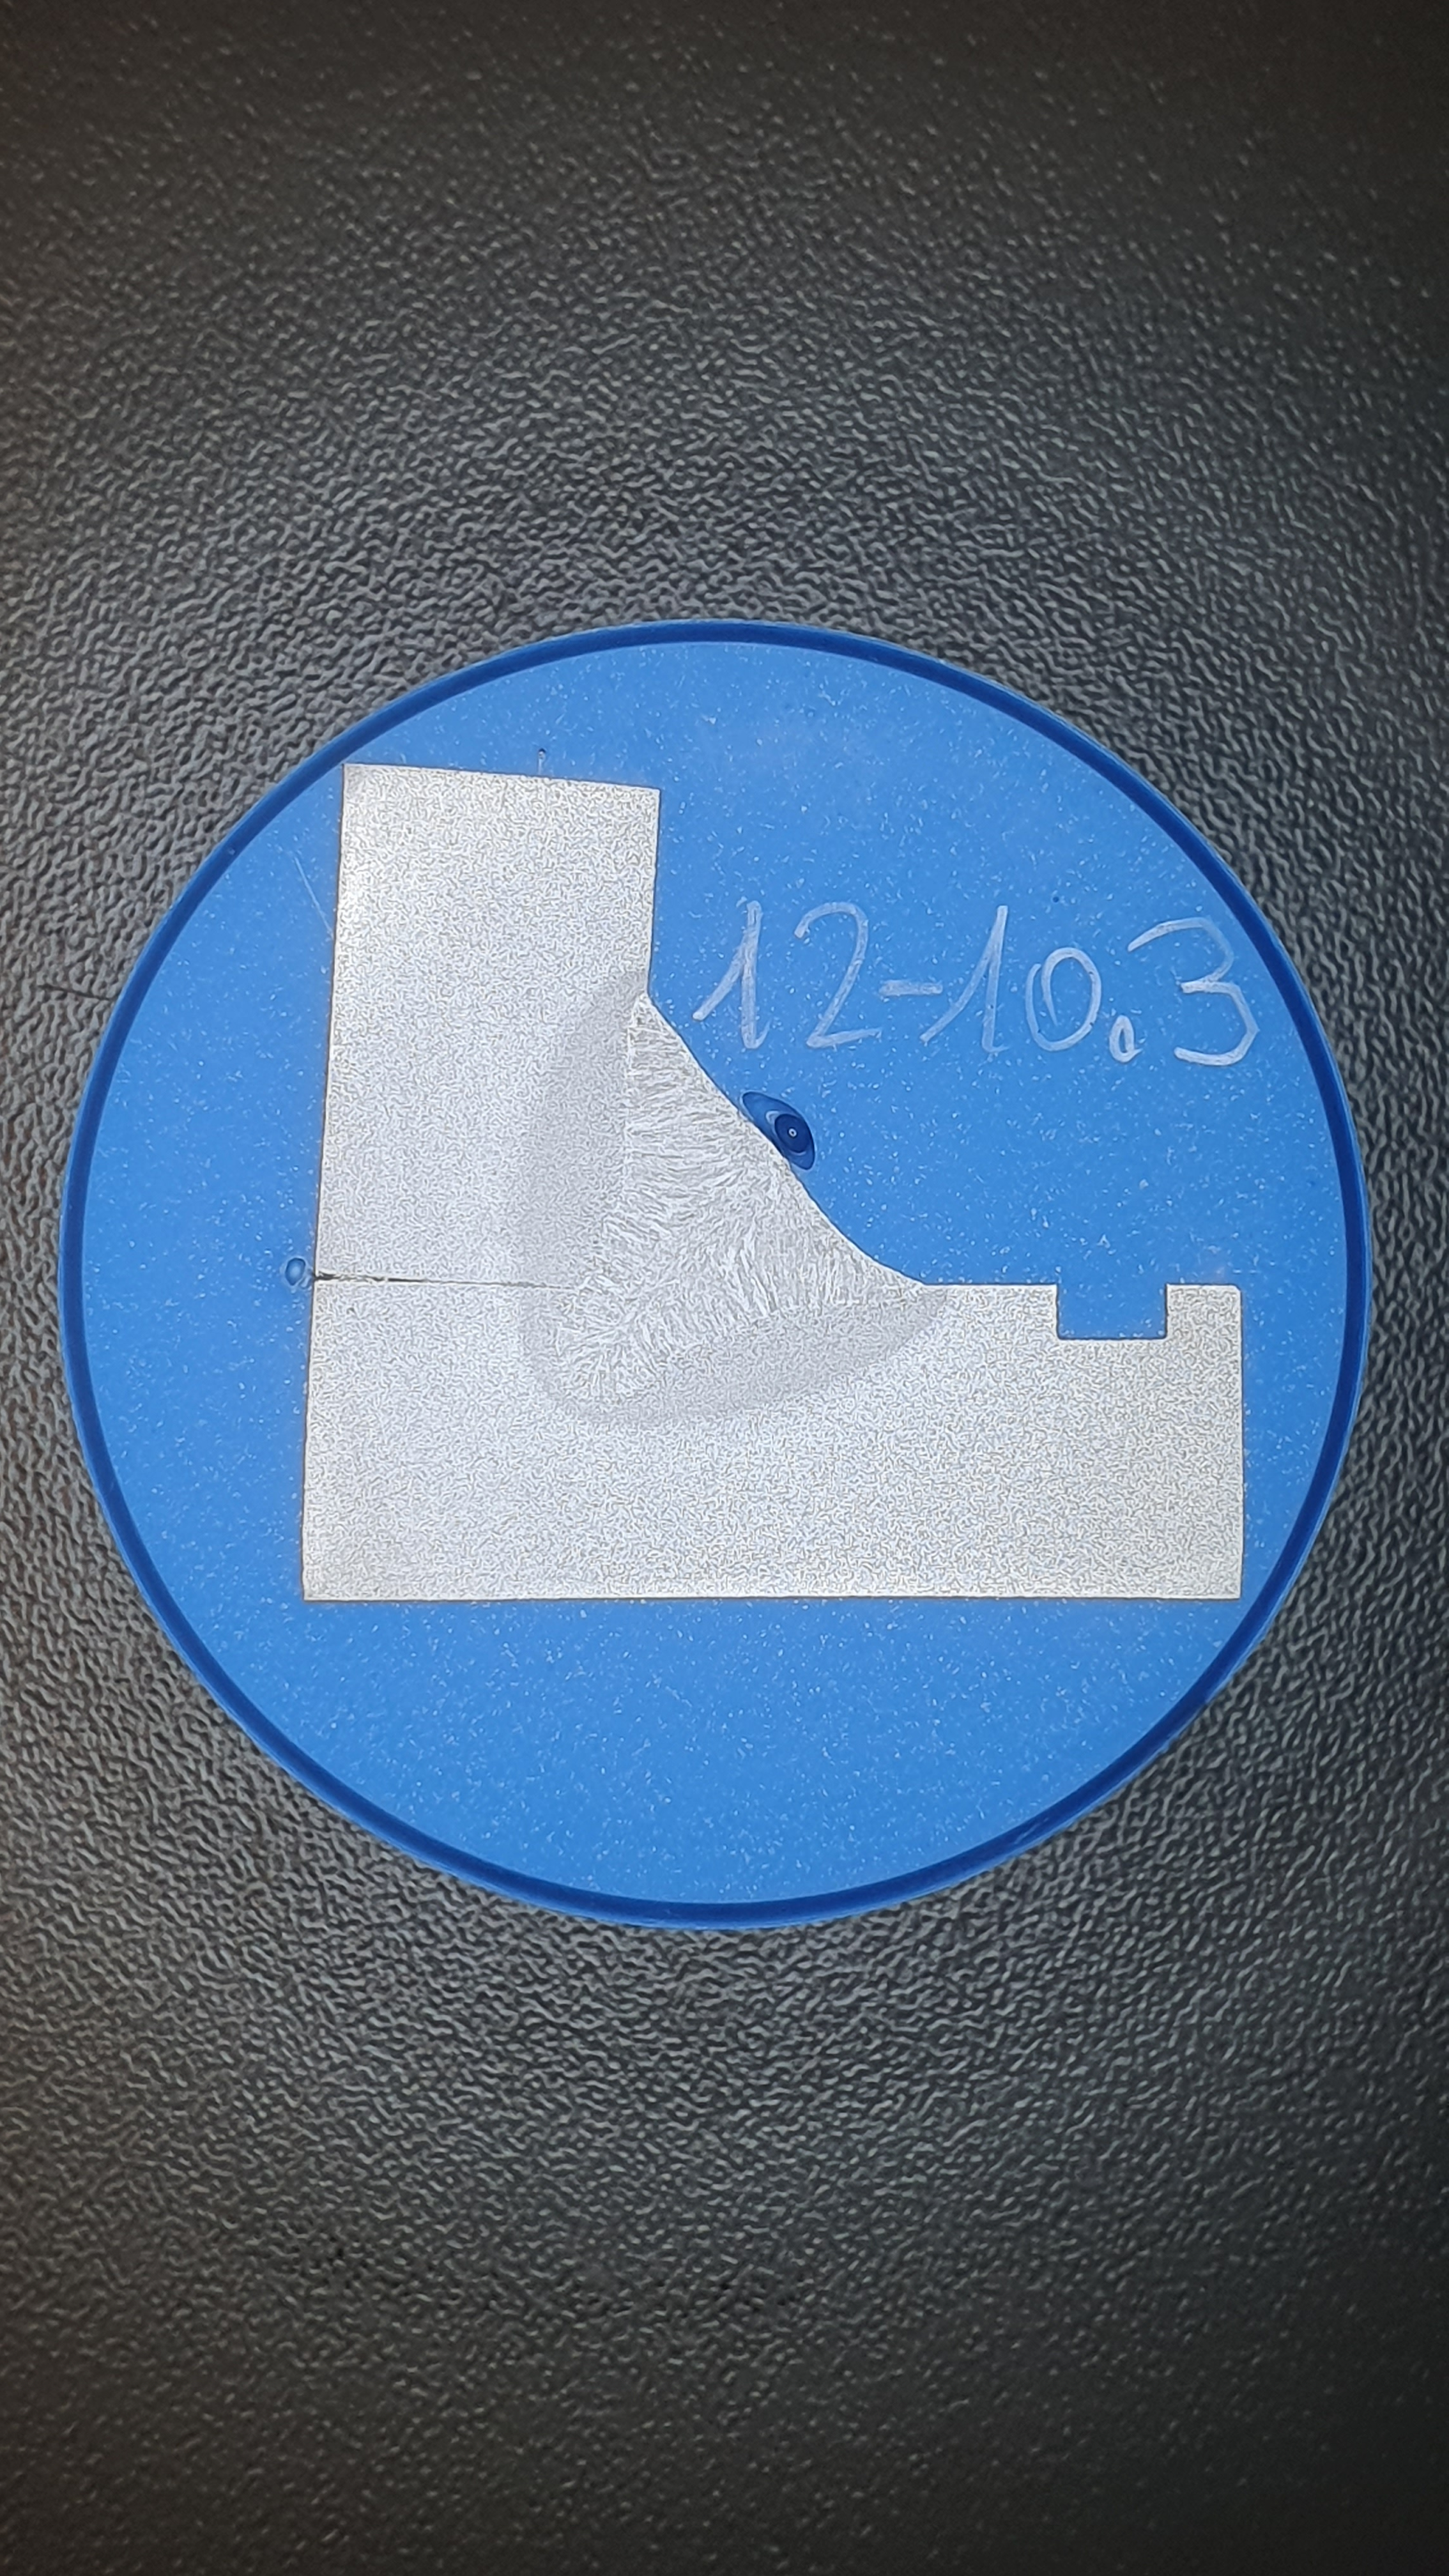Fusion: (556, 993, 922, 1396)
Hintergrund: (80, 639, 1348, 1905)
Metall: (301, 763, 1244, 1603)
Nebenbereich: (511, 964, 947, 1424)
